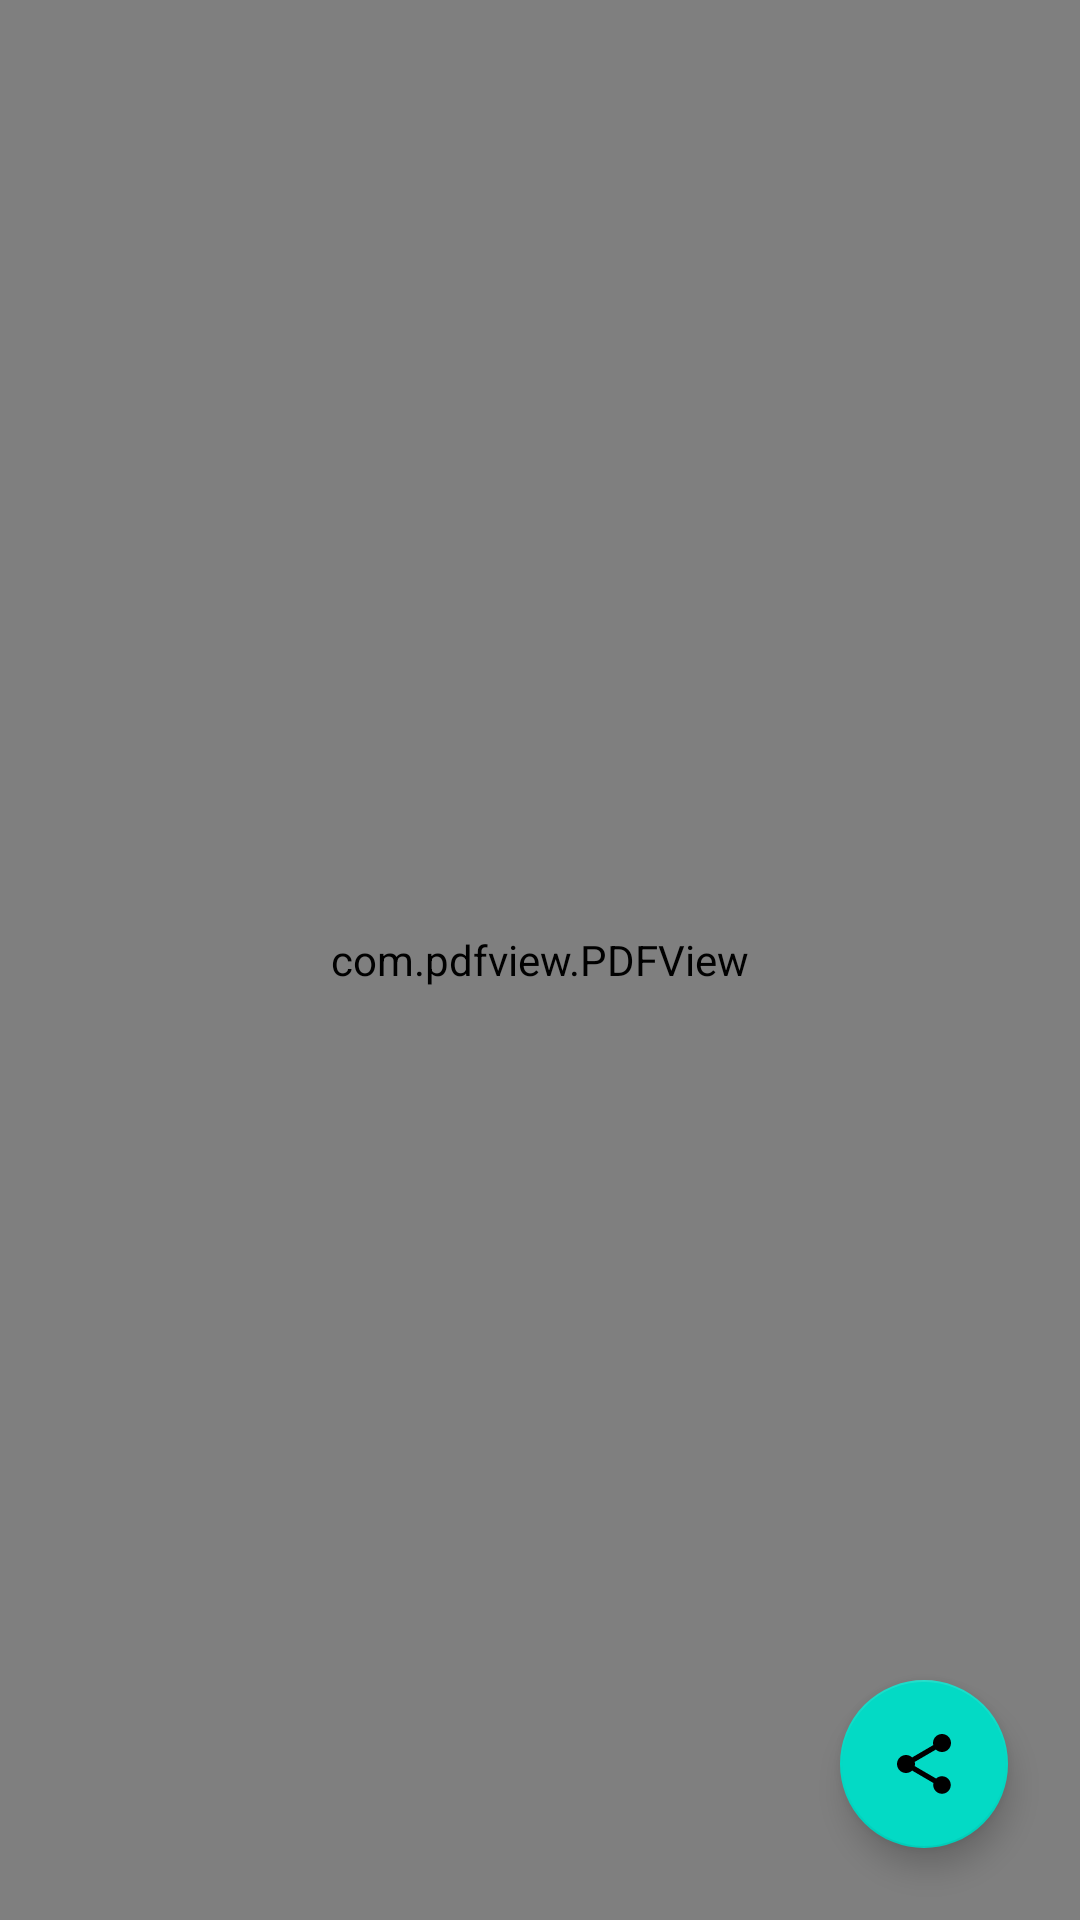

Named icons in this screenshot (1080 x 1920) and their centers, (x,y):
share: (924,1764)
